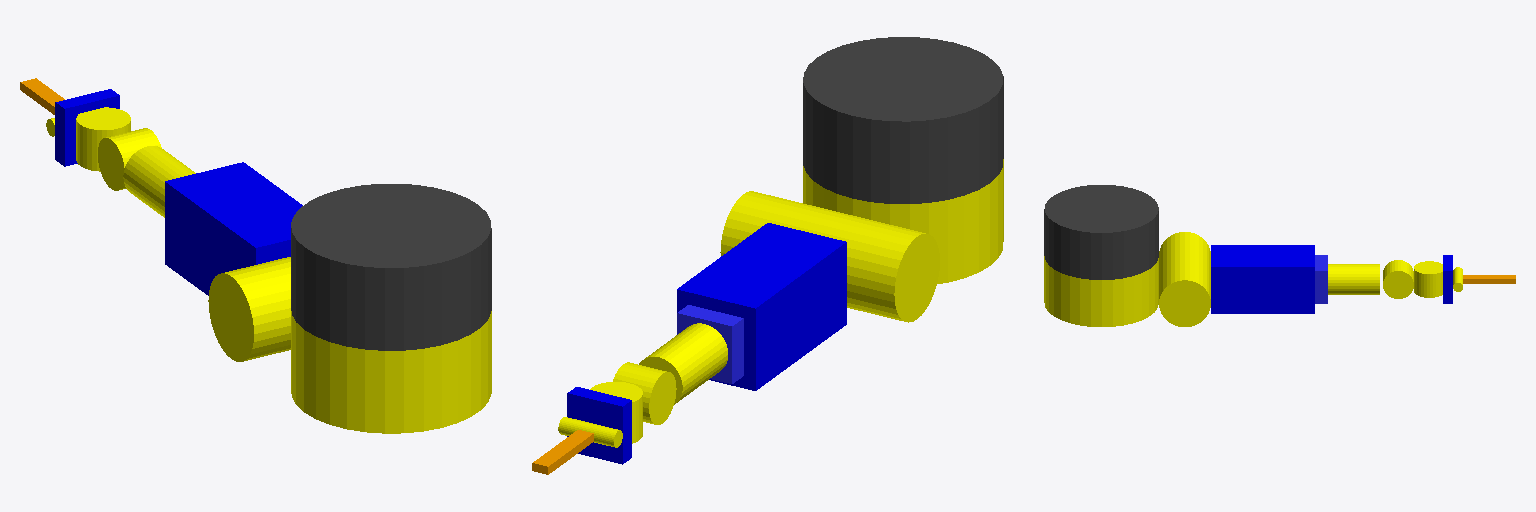
The robot description file, URDF, robot "third_arm":
<?xml version="1.0"?>
<robot name="third_arm">

  <!-- Third Arm has 5 joints, need many more links to make the model -->

  <link name="base_link">
    <visual>
		<origin xyz="0 0 0" rpy ="0 0  0"/>
      <material name="Gray">
       <color rgba="0.3 0.3 0.3 1.0"/>
      </material> 	
      <geometry>
        <cylinder length="0.1" radius="0.11"/>
      </geometry>
    </visual>
  </link>

  <link name="base_motor">
  	<inertial>
  		<origin xyz="0 0 0" rpy ="0 0 0"/>
  		<mass value="1"/>
  		<inertia ixx="100"  ixy="0"  ixz="0" iyy="100" iyz="0" izz="100" />
  	</inertial>
    <visual>
		<origin xyz="0 0 0" rpy ="0 0  0"/>
      <material name="Yellow">
       <color rgba="1.0 1.0 0.0 1.0"/>
      </material> 	
      <geometry>
        <cylinder length="0.1" radius="0.11"/>
      </geometry>
    </visual>
  </link>


  <joint name="base_to_motor1" type="revolute">
  	<axis xyz="0 0 1"/>
  	<limit lower="-1.5708" upper="1.5708" effort="10" velocity="0.314"/>
  	<origin xyz="0 0 -0.1" rpy="0 0 0" />
    <parent link="base_link"/>
    <child link="base_motor"/>
  </joint>


  <link name="lift_motor">
  	<inertial>
  		<origin xyz="0 0 0" rpy ="0 0 0"/>
  		<mass value="1"/>
  		<inertia ixx="100"  ixy="0"  ixz="0" iyy="100" iyz="0" izz="100" />
  	</inertial>
    <visual>
		<origin xyz="0 0 0" rpy ="0 0 0"/>
      <material name="Yellow">
       <color rgba="1.0 1.0 0.0 1.0"/>
      </material> 	
      <geometry>
        <cylinder length="0.22" radius="0.05"/>
      </geometry>
    </visual>
  </link>

  <joint name="swivel_to_motor2" type="revolute">
  	<axis xyz="0 0 1"/>
  	<limit lower="-1.5708" upper="1.5708" effort="10" velocity="0.314"/>
  	<origin xyz="0 0.16 0" rpy="1.5708 1.5708 1.5708" />
    <parent link="base_motor"/>
    <child link="lift_motor"/>
  </joint>

  <link name="extend_link1">
    <visual>
		<origin xyz="0 0.1 0" rpy ="0 0 0"/>
      <material name="Blue">
       <color rgba="0 0.0 1.0 0.4"/>
      </material> 	
      <geometry>
        <box size="0.1 0.2 0.1"/>
      </geometry>
    </visual>
  </link>

  <joint name="motor2_to_extend1" type="fixed">
  	<origin xyz="0 0.05 0" rpy="0 0 0" />
    <parent link="lift_motor"/>
    <child link="extend_link1"/>
  </joint>

  <link name="extend_link2">
    <visual>
		<origin xyz="0 0 0" rpy ="0 0 0"/>
      <material name="Blue2">
       <color rgba="0.2 0.2 1.0 1.0"/>
      </material> 	
      <geometry>
        <box size="0.07 .20 .07"/>
      </geometry>
    </visual>
  </link>

  <joint name="extension" type="fixed">
    <origin xyz="0 0.125 0" rpy="0 0 0" />
    <parent link="extend_link1"/>
    <child link="extend_link2"/>
  </joint>
  
  <!--
  <joint name="extension" type="prismatic">
  	<axis xyz="0 1 0"/>
  	<limit lower="0" upper="0.15" effort="10" velocity="5"/>
  	<origin xyz="0 0.125 0" rpy="0 0 0" />
    <parent link="extend_link1"/>
    <child link="extend_link2"/>
  </joint>
  -->

  <link name="wrist_motor">
  	<inertial>
  		<origin xyz="0 0 0" rpy =" 1.5708 0  0"/>
  		<mass value="1"/>
  		<inertia ixx="100"  ixy="0"  ixz="0" iyy="100" iyz="0" izz="100" />
  	</inertial>
    <visual>
		<origin xyz="0 0 0" rpy ="1.5708 0 0"/>
      <material name="Yellow">
       <color rgba="1.0 1.0 0.0 1.0"/>
      </material> 	
      <geometry>
        <cylinder length="0.05" radius="0.03"/>
      </geometry>
    </visual>
  </link>

  <joint name="wrist_motor_to_extension" type="revolute">
  	<axis xyz="0 1 0"/>
  	<limit lower="-1.5708" upper="1.5708" effort="5" velocity="0.5"/>
  	<origin xyz="0 0.125 0" rpy="0 0 0" />
    <parent link="extend_link2"/>
    <child link="wrist_motor"/>
  </joint>

  <link name="wrist_motor2">
    <inertial>
      <origin xyz="0 0 0" rpy ="1.5708 0 0"/>
      <mass value="1"/>
      <inertia ixx="100"  ixy="0"  ixz="0" iyy="100" iyz="0" izz="100" />
    </inertial>
    <visual>
    <origin xyz="0 0 0" rpy ="1.5708 0 0"/>
      <material name="Yellow">
       <color rgba="1.0 1.0 0.0 1.0"/>
      </material>   
      <geometry>
        <cylinder length="0.05" radius="0.03"/>
      </geometry>
    </visual>
  </link>

  <joint name="wrist_motor_to_wrist_motor2" type="revolute">
    <axis xyz="0 1 0"/>
    <limit lower="-1.5708" upper="1.5708" effort="5" velocity="0.5"/>
    <origin xyz="0 0.05 0" rpy="0 0 0" />
    <parent link="wrist_motor"/>
    <child link="wrist_motor2"/>
  </joint>

  <link name="wrist_motor3">
    <inertial>
      <origin xyz="0 0 0" rpy ="0 0 1.5708"/>
      <mass value="1"/>
      <inertia ixx="100"  ixy="0"  ixz="0" iyy="100" iyz="0" izz="100" />
    </inertial>
    <visual>
    <origin xyz="0 0 0" rpy ="0 0 1.5708"/>
      <material name="Yellow">
       <color rgba="1.0 1.0 0.0 1.0"/>
      </material>   
      <geometry>
        <cylinder length="0.05" radius="0.03"/>
      </geometry>
    </visual>
  </link>

  <joint name="wrist_motor2_to_wrist_motor3" type="revolute">
    <axis xyz="0 0 1"/>
    <limit lower="-1.5708" upper="1.5708" effort="5" velocity="0.5"/>
    <origin xyz="0 0.06 0" rpy="0 0 0" />
    <parent link="wrist_motor2"/>
    <child link="wrist_motor3"/>
  </joint>

  <link name="wrist_tilt_motor">
    <inertial>
      <origin xyz="0 0 0" rpy ="0 1.5708 0"/>
      <mass value="1"/>
      <inertia ixx="100"  ixy="0"  ixz="0" iyy="100" iyz="0" izz="100" />
    </inertial>
    <visual>
    <origin xyz="0 0 0" rpy ="0 1.5708 0"/>
      <material name="Yellow">
       <color rgba="1.0 1.0 0.0 1.0"/>
      </material>   
      <geometry>
        <cylinder length="0.05" radius="0.03"/>
      </geometry>
    </visual>
  </link>

  <joint name="wrist_motor3_to_wrist_tilt_motor" type="revolute">
    <axis xyz="1 0 0"/>
    <limit lower="-1.5708" upper="1.5708" effort="5" velocity="0.5"/>
    <origin xyz="0 0.06 0" rpy="0 0 0" />
    <parent link="wrist_motor3"/>
    <child link="wrist_tilt_motor"/>
  </joint>

  <link name="wrist_plate">
    <visual>
		<origin xyz="0 0 0" rpy ="0 0 0"/>
      <material name="Blue">
       <color rgba="0.0 0.0 1.0 1.0"/>
      </material> 	
      <geometry>
        <box size="0.07 .02 .07"/>
      </geometry>
    </visual>
  </link>

  <joint name="wrist_tilt_motor_to_plate" type="fixed">
  	<origin xyz="0 0.035 0" rpy="0 0 0" />
    <parent link="wrist_tilt_motor"/>
    <child link="wrist_plate"/>
  </joint>

  

  <link name="gripper_motor">
  	<inertial>
  		<origin xyz="0 0 0" rpy =" 1.5708 0  0"/>
  		<mass value="1"/>
  		<inertia ixx="100"  ixy="0"  ixz="0" iyy="100" iyz="0" izz="100" />
  	</inertial>
    <visual>
		<origin xyz="0 0 0" rpy ="0 0 0"/>
      <material name="Yellow">
       <color rgba="1.0 1.0 0.0 1.0"/>
      </material> 	
      <geometry>
        <cylinder length="0.07" radius="0.01"/>
      </geometry>
    </visual>
  </link>

  <joint name="gripper_motor_to_plate" type="fixed">
  	<origin xyz="0 0.02 0" rpy="0 0 0" />
    <parent link="wrist_plate"/>
    <child link="gripper_motor"/>
  </joint>

  
  <link name="finger1">
  	<inertial>
  		<origin xyz="0 0.06 0" rpy =" 0 0  0"/>
  		<mass value="1"/>
  		<inertia ixx="100"  ixy="0"  ixz="0" iyy="100" iyz="0" izz="100" />
  	</inertial>  	
    <visual>
		<origin xyz="0 0.06 0" rpy ="0 0 0"/>
      <material name="Orange1">
       <color rgba="1.0 0.65 0.0 1.0"/>
      </material> 	
      <geometry>
        <box size="0.01 .1 .02"/>
      </geometry>
    </visual>
  </link>

  <joint name="finger1_to_gripper_motor" type="revolute">
  	<axis xyz="0 0 1"/>
  	<limit lower="0" upper="1" effort="5" velocity="0.5"/>
  	<origin xyz="0 0 0" rpy="0 0 0" />
    <parent link="gripper_motor"/>
    <child link="finger1"/>
  </joint>

  <link name="finger2">
  	<inertial>
  		<origin xyz="0 0.06 0" rpy =" 0 0  0"/>
  		<mass value="1"/>
  		<inertia ixx="100"  ixy="0"  ixz="0" iyy="100" iyz="0" izz="100" />
  	</inertial>
    <visual>
		<origin xyz="0 0.06 0" rpy ="0 0 0"/>
      <material name="Orange2">
       <color rgba="1.0 0.55 0.0 1.0"/>
      </material> 	
      <geometry>
        <box size="0.01 .1 .02"/>
      </geometry>
    </visual>
  </link>

  <joint name="finger2_to_gripper_motor" type="revolute">
  	<axis xyz="0 0 1"/>
  	<limit lower="-1" upper="0" effort="5" velocity="0.5"/>
  	<origin xyz="0 0 0" rpy="0 0 0" />
  	<mimic joint="finger1_to_gripper_motor" multiplier="-1" />
    <parent link="gripper_motor"/>
    <child link="finger2"/>
  </joint>
  
</robot>

--- Facts derived from the render (not from the file) ---
Views: 3 orthographic renders of the robot side by side, from view 1: azimuth 30°, elevation 25°; view 2: azimuth 150°, elevation 25°; view 3: azimuth 270°, elevation 25°.
Robot: third_arm — 13 links, 12 joints (8 revolute, 4 fixed); root link base_link; default pose: every joint at zero.
Links seen in each view (by area): view 1: base_link, base_motor, extend_link1, lift_motor, wrist_tilt_motor, wrist_plate, wrist_motor3, wrist_motor2, wrist_motor, finger1; view 2: base_link, extend_link1, lift_motor, base_motor, wrist_plate, extend_link2, wrist_motor3, wrist_motor2, wrist_motor, finger1, wrist_tilt_motor, gripper_motor; view 3: base_link, extend_link1, base_motor, lift_motor, wrist_motor3, wrist_tilt_motor, wrist_motor, wrist_motor2, extend_link2.
Boxes of the visible links, bbox=[...] form: base_link: bbox=[291, 184, 491, 350]; base_motor: bbox=[291, 311, 491, 433]; extend_link1: bbox=[165, 162, 302, 295]; lift_motor: bbox=[208, 257, 290, 361]; wrist_tilt_motor: bbox=[76, 107, 130, 171]; wrist_plate: bbox=[55, 89, 119, 166]; wrist_motor3: bbox=[98, 128, 161, 190]; wrist_motor2: bbox=[123, 146, 185, 207]; wrist_motor: bbox=[146, 162, 195, 217]; finger1: bbox=[20, 78, 64, 114]; base_link: bbox=[803, 37, 1003, 203]; extend_link1: bbox=[677, 223, 846, 390]; lift_motor: bbox=[720, 191, 939, 322]; base_motor: bbox=[803, 159, 1003, 283]; wrist_plate: bbox=[567, 387, 631, 464]; extend_link2: bbox=[677, 305, 743, 383]; wrist_motor3: bbox=[613, 362, 676, 424]; wrist_motor2: bbox=[639, 340, 705, 404]; wrist_motor: bbox=[668, 323, 727, 385]; finger1: bbox=[532, 430, 593, 474]; wrist_tilt_motor: bbox=[590, 382, 642, 443]; gripper_motor: bbox=[558, 417, 622, 447]; base_link: bbox=[1044, 185, 1158, 279]; extend_link1: bbox=[1211, 245, 1314, 313]; base_motor: bbox=[1044, 256, 1158, 326]; lift_motor: bbox=[1159, 232, 1210, 326]; wrist_motor3: bbox=[1383, 260, 1413, 298]; wrist_tilt_motor: bbox=[1414, 261, 1442, 297]; wrist_motor: bbox=[1328, 264, 1353, 294]; wrist_motor2: bbox=[1354, 264, 1379, 294]; extend_link2: bbox=[1315, 255, 1327, 303].
Bounding box of the posed robot: 0.22 × 0.905 × 0.2 m (x, y, z).
Geometry: primitives only (box / cylinder / sphere), no mesh files.